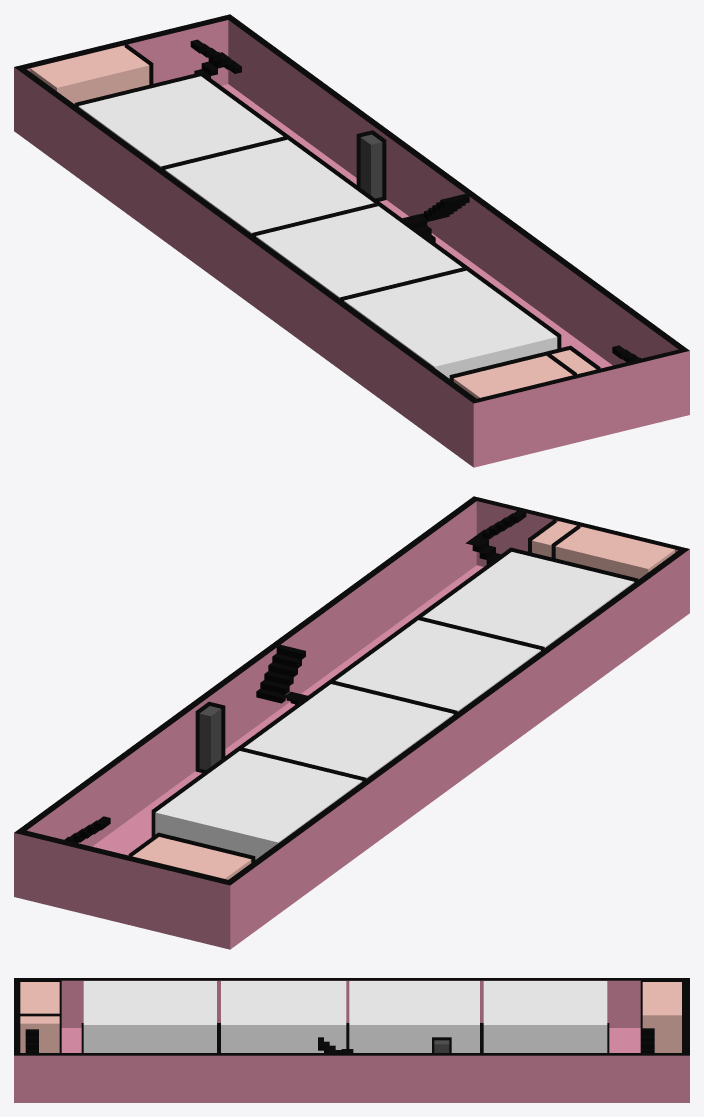
3 renders of one model, top to bottom at view 1: azimuth 30°, elevation 25°; view 2: azimuth 150°, elevation 25°; view 3: azimuth 270°, elevation 25°, orthographic. The views are drawn at different scales.
Visible parts, largest first — view 1: object, room_8_2_1, room_8_2_3, room_8_2_2, room_8_2_4, トイレ_8_2_1, トイレ_8_2_2, エレベーター_8_2_1, object_line.001, object_line.003, object_line.002, object_line.004 (+3 smaller); view 2: object, room_8_2_4, room_8_2_1, room_8_2_3, room_8_2_2, トイレ_8_2_2, トイレ_8_2_1, 階段_8_2_2, エレベーター_8_2_1, object_line.004, object_line.001, object_line.003 (+4 smaller); view 3: object, room_8_2_1, room_8_2_3, room_8_2_4, room_8_2_2, トイレ_8_2_1, トイレ_8_2_2, トイレ_8_2_3, object_line.001, object_line.004, object_line.002, object_line.003 (+6 smaller).
Boxes of the visible parts, left/top/right/bottom form: object: left=14, top=14, right=689, bottom=467; room_8_2_1: left=344, top=270, right=557, bottom=378; room_8_2_3: left=165, top=139, right=373, bottom=233; room_8_2_2: left=256, top=206, right=461, bottom=298; room_8_2_4: left=78, top=76, right=282, bottom=167; トイレ_8_2_1: left=30, top=46, right=149, bottom=103; トイレ_8_2_2: left=453, top=355, right=572, bottom=398; エレベーター_8_2_1: left=360, top=134, right=382, bottom=198; object_line.001: left=340, top=266, right=561, bottom=348; object_line.003: left=161, top=135, right=380, bottom=207; object_line.002: left=252, top=202, right=467, bottom=270; object_line.004: left=74, top=72, right=288, bottom=136; object: left=14, top=496, right=689, bottom=949; room_8_2_4: left=155, top=751, right=362, bottom=859; room_8_2_1: left=423, top=552, right=634, bottom=647; room_8_2_3: left=244, top=684, right=453, bottom=778; room_8_2_2: left=335, top=620, right=540, bottom=711; トイレ_8_2_2: left=555, top=527, right=674, bottom=579; トイレ_8_2_1: left=132, top=837, right=251, bottom=879; 階段_8_2_2: left=256, top=644, right=307, bottom=704; エレベーター_8_2_1: left=199, top=706, right=221, bottom=769; object_line.004: left=151, top=746, right=366, bottom=836; object_line.001: left=417, top=547, right=638, bottom=620; object_line.003: left=238, top=679, right=457, bottom=749; object: left=14, top=978, right=689, bottom=1102; room_8_2_1: left=83, top=981, right=216, bottom=1052; room_8_2_3: left=349, top=981, right=479, bottom=1052; room_8_2_4: left=483, top=981, right=607, bottom=1052; room_8_2_2: left=221, top=981, right=346, bottom=1052; トイレ_8_2_1: left=642, top=982, right=681, bottom=1052; トイレ_8_2_2: left=20, top=982, right=59, bottom=1013; トイレ_8_2_3: left=20, top=1016, right=59, bottom=1052; object_line.001: left=81, top=978, right=218, bottom=1052; object_line.004: left=481, top=978, right=609, bottom=1052; object_line.002: left=219, top=978, right=348, bottom=1052; object_line.003: left=347, top=978, right=481, bottom=1052.
Size of the model in its own units: 0.6803 by 0.2155 by 2.51.
